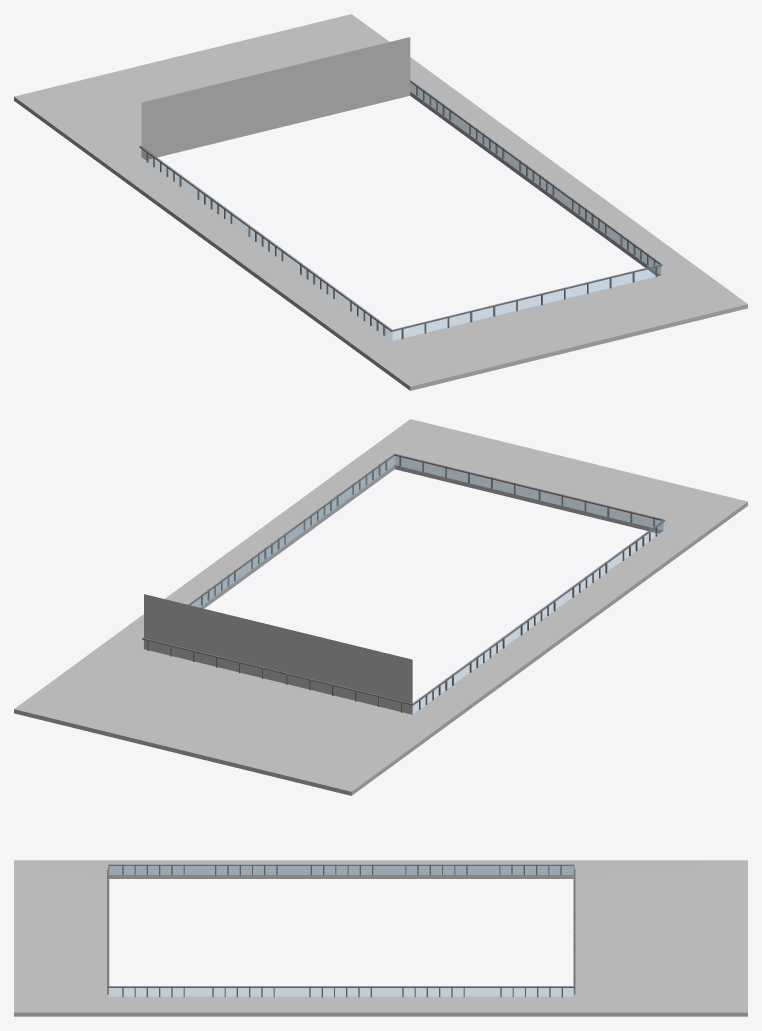
Rendered from 鲸鱼馆大厅.fbx_三楼.fbx.
3 views of the same model, one above another, from view 1: azimuth 30°, elevation 25°; view 2: azimuth 150°, elevation 25°; view 3: azimuth 270°, elevation 25° (orthographic). The views are drawn at different scales.
Visible parts, largest first — view 1: 三楼, 扶手.001; view 2: 三楼, 扶手.001; view 3: 三楼, 扶手.001.
Boxes of the visible parts, bbox=[...] form: 三楼: bbox=[14, 14, 747, 390]; 扶手.001: bbox=[139, 80, 662, 339]; 三楼: bbox=[14, 419, 747, 795]; 扶手.001: bbox=[142, 453, 665, 712]; 三楼: bbox=[14, 860, 747, 1016]; 扶手.001: bbox=[107, 864, 575, 997].
Size of the model in its own units: 3197 by 536 by 6503.
